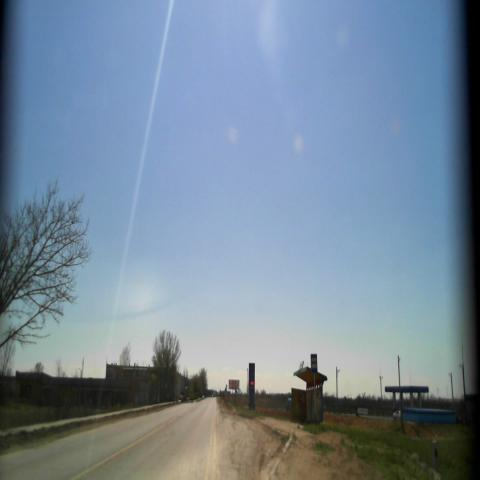5_16: (310, 353, 318, 374)
